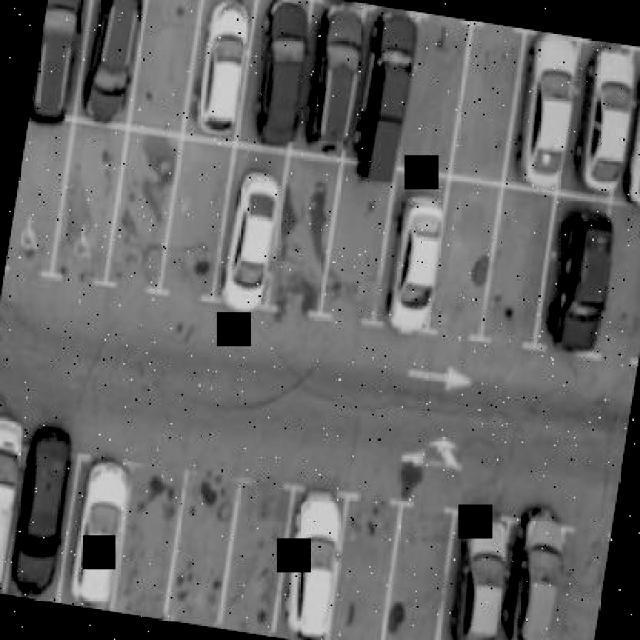space-empty: (396, 17, 463, 166), (487, 200, 549, 332), (458, 30, 514, 163), (116, 144, 174, 268), (137, 1, 195, 122), (442, 195, 494, 328), (333, 171, 388, 294), (277, 169, 329, 296), (55, 153, 112, 268), (176, 494, 227, 620), (333, 521, 385, 640), (550, 532, 607, 638), (392, 522, 444, 638), (124, 494, 174, 614), (174, 158, 225, 275), (9, 133, 60, 247), (232, 512, 280, 628), (608, 232, 640, 346)
space-occupied: (345, 8, 417, 174), (278, 479, 353, 635), (382, 169, 454, 330), (512, 29, 584, 185), (9, 428, 79, 588), (544, 203, 622, 346), (567, 48, 638, 196), (304, 2, 374, 150), (247, 0, 316, 148), (446, 508, 516, 640), (73, 457, 138, 599), (193, 0, 258, 133), (502, 517, 571, 637), (222, 172, 282, 298), (86, 0, 148, 112), (34, 0, 91, 99), (0, 415, 26, 585)
